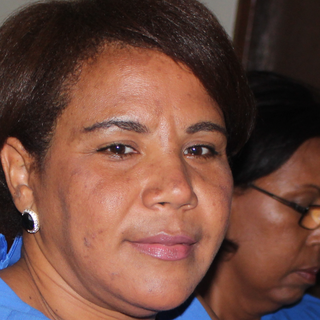eye: (92, 136, 144, 160), (179, 139, 219, 162)
